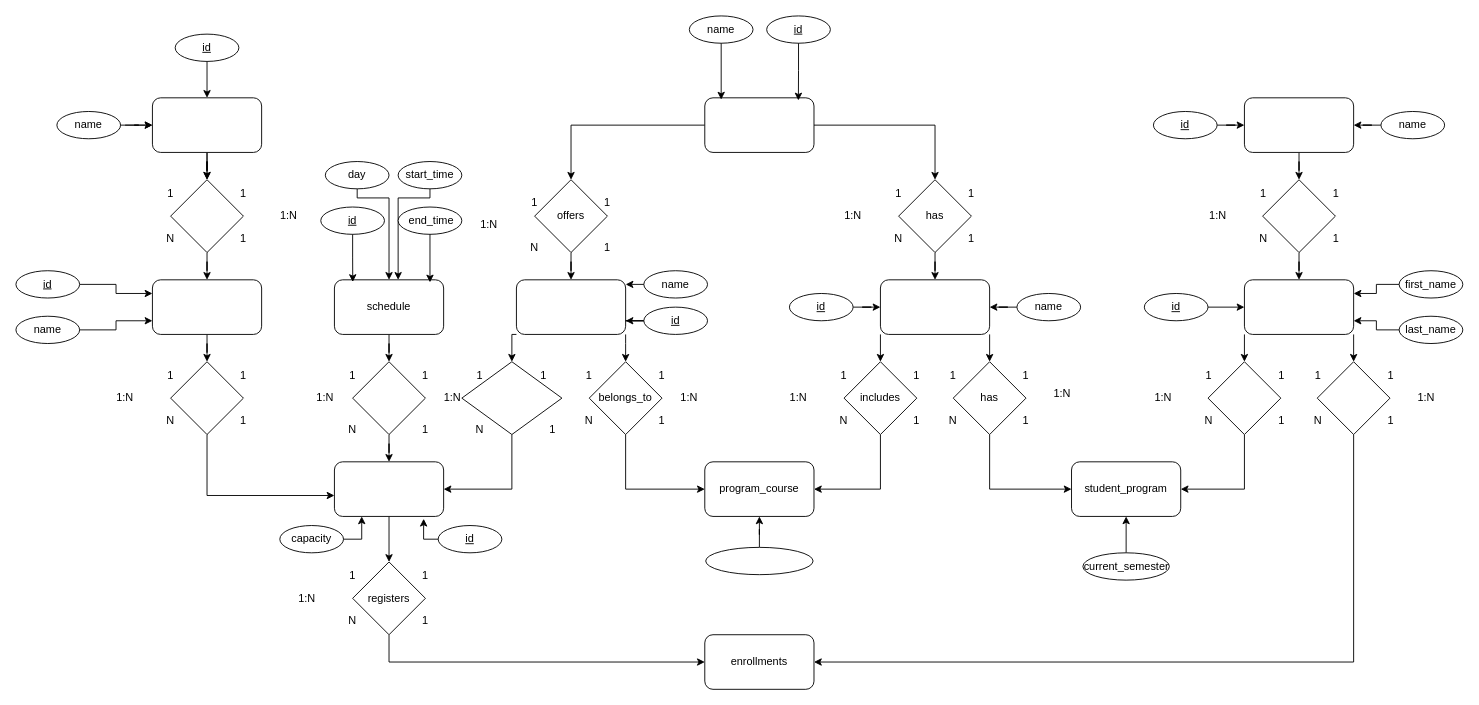
The diagram is 1479 pixels wide and 705 high, and some of its shapes have lost their labels. The shapes that lost their labels are listed below. From the top down, each one's box as (x1, y1, x2, y2) in pixels, then its label:
(152, 97, 262, 152): building
(704, 97, 814, 152): faculty
(1244, 97, 1354, 152): role
(170, 179, 243, 253): contains
(1262, 179, 1335, 253): classifies
(152, 279, 262, 334): classroom
(516, 279, 626, 334): course
(880, 279, 990, 334): program
(1244, 279, 1354, 334): user
(170, 361, 243, 435): assigns
(352, 361, 425, 435): defines
(461, 361, 562, 435): assigns_schedule
(1207, 361, 1281, 435): enrolled_in
(1316, 361, 1390, 435): takes
(334, 461, 444, 516): course_offerings
(705, 546, 813, 575): curriculum_semester
